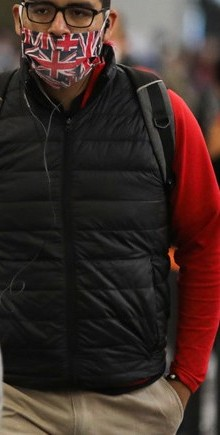with_mask: (13, 1, 119, 83)
